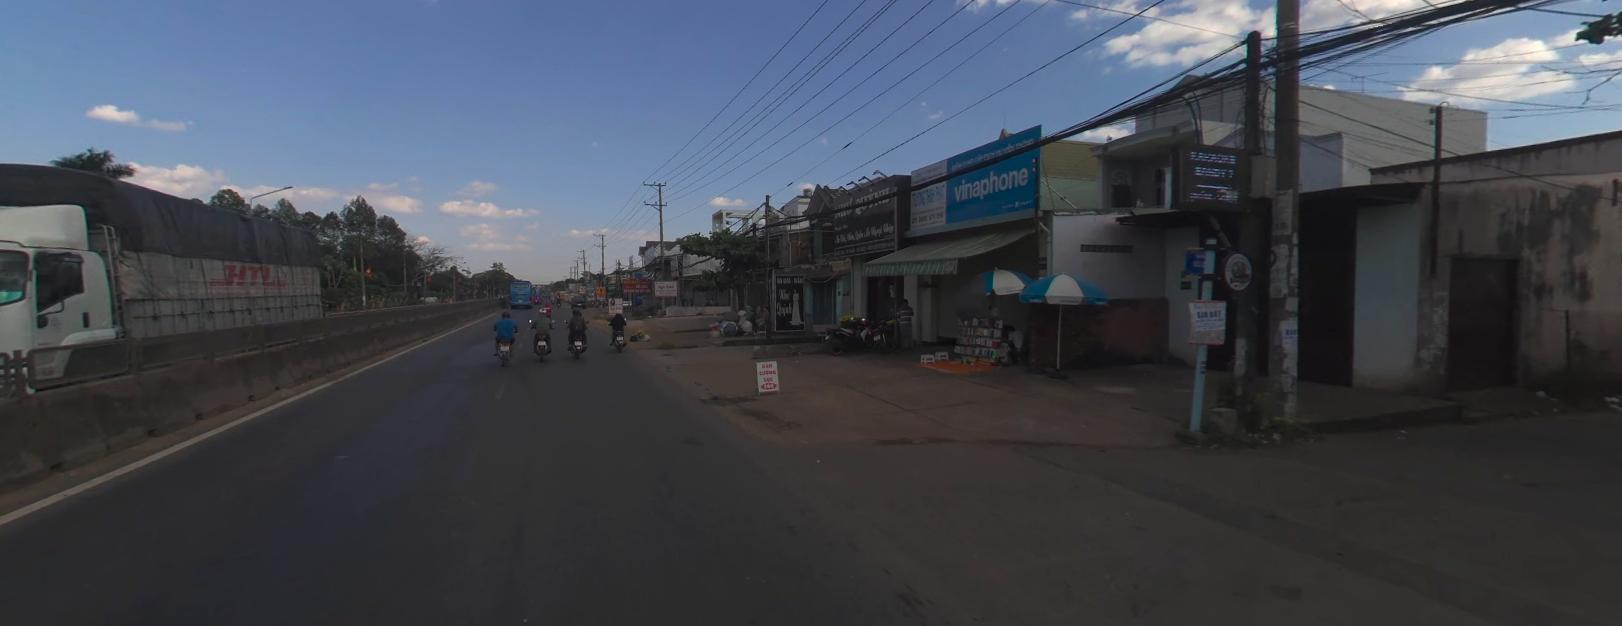Nguy hiem: (594, 284, 607, 293)
